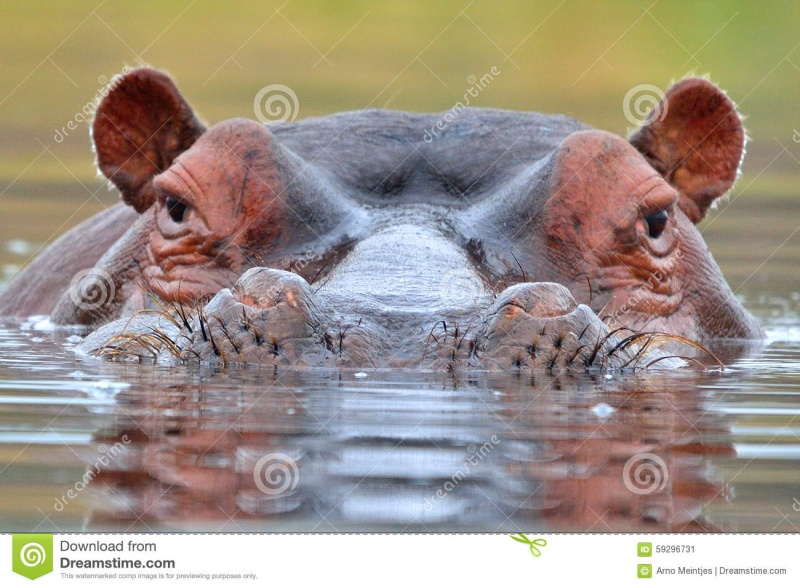hipopotamo: (46, 55, 763, 406)
